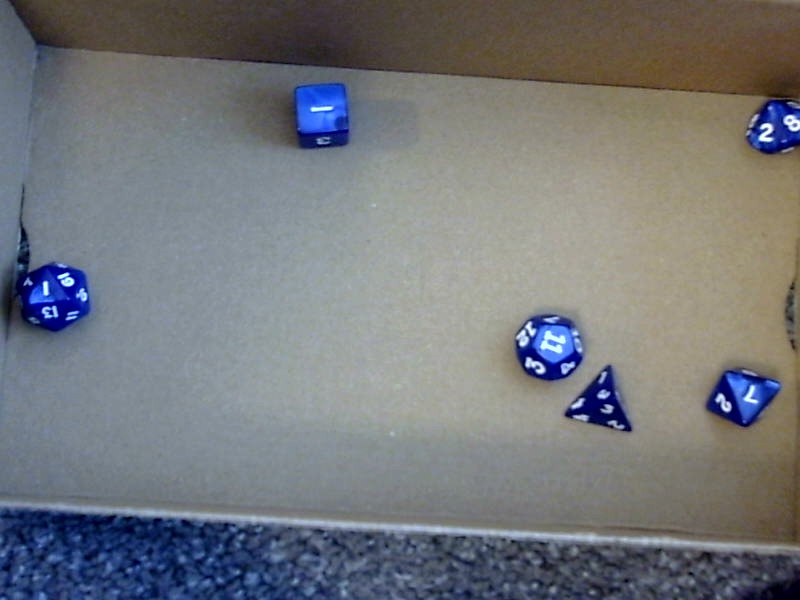d10 8: (736, 90, 799, 159)
d12 11: (498, 310, 586, 385)
d20 1: (15, 259, 105, 334)
d4 3: (563, 360, 644, 437)
d6 1: (286, 83, 355, 147)
d8 7: (700, 358, 783, 429)
